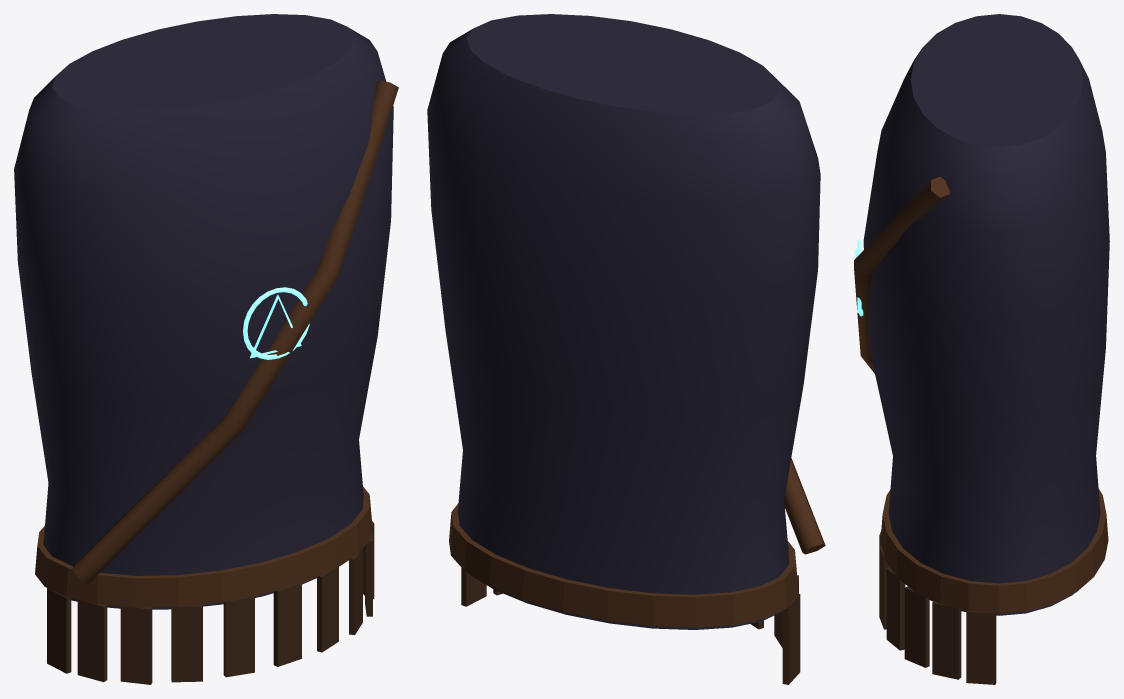
Rendered from body_occult_vest.glb.
3 views of the same model, side by side, from view 1: azimuth 30°, elevation 25°; view 2: azimuth 150°, elevation 25°; view 3: azimuth 270°, elevation 25° (orthographic). The views are drawn at different scales.
Visible parts, largest first — view 1: Body_occult_vest_Cloth_dark, Body_occult_vest_Leather, Body_occult_vest_Worn_leather, Body_occult_vest_Glow_aetheric; view 2: Body_occult_vest_Cloth_dark, Body_occult_vest_Leather, Body_occult_vest_Worn_leather; view 3: Body_occult_vest_Cloth_dark, Body_occult_vest_Leather, Body_occult_vest_Worn_leather.
Part boxes in pixels (left/top/right/bottom): Body_occult_vest_Cloth_dark: left=14, top=14, right=393, bottom=609; Body_occult_vest_Leather: left=35, top=80, right=398, bottom=607; Body_occult_vest_Worn_leather: left=47, top=521, right=374, bottom=684; Body_occult_vest_Glow_aetheric: left=243, top=287, right=309, bottom=359; Body_occult_vest_Cloth_dark: left=427, top=14, right=820, bottom=629; Body_occult_vest_Leather: left=449, top=458, right=825, bottom=627; Body_occult_vest_Worn_leather: left=461, top=568, right=800, bottom=684; Body_occult_vest_Cloth_dark: left=863, top=14, right=1109, bottom=615; Body_occult_vest_Leather: left=854, top=176, right=1108, bottom=613; Body_occult_vest_Worn_leather: left=879, top=531, right=996, bottom=684.
Size of the model in its own units: 0.4 by 0.595 by 0.2595.
